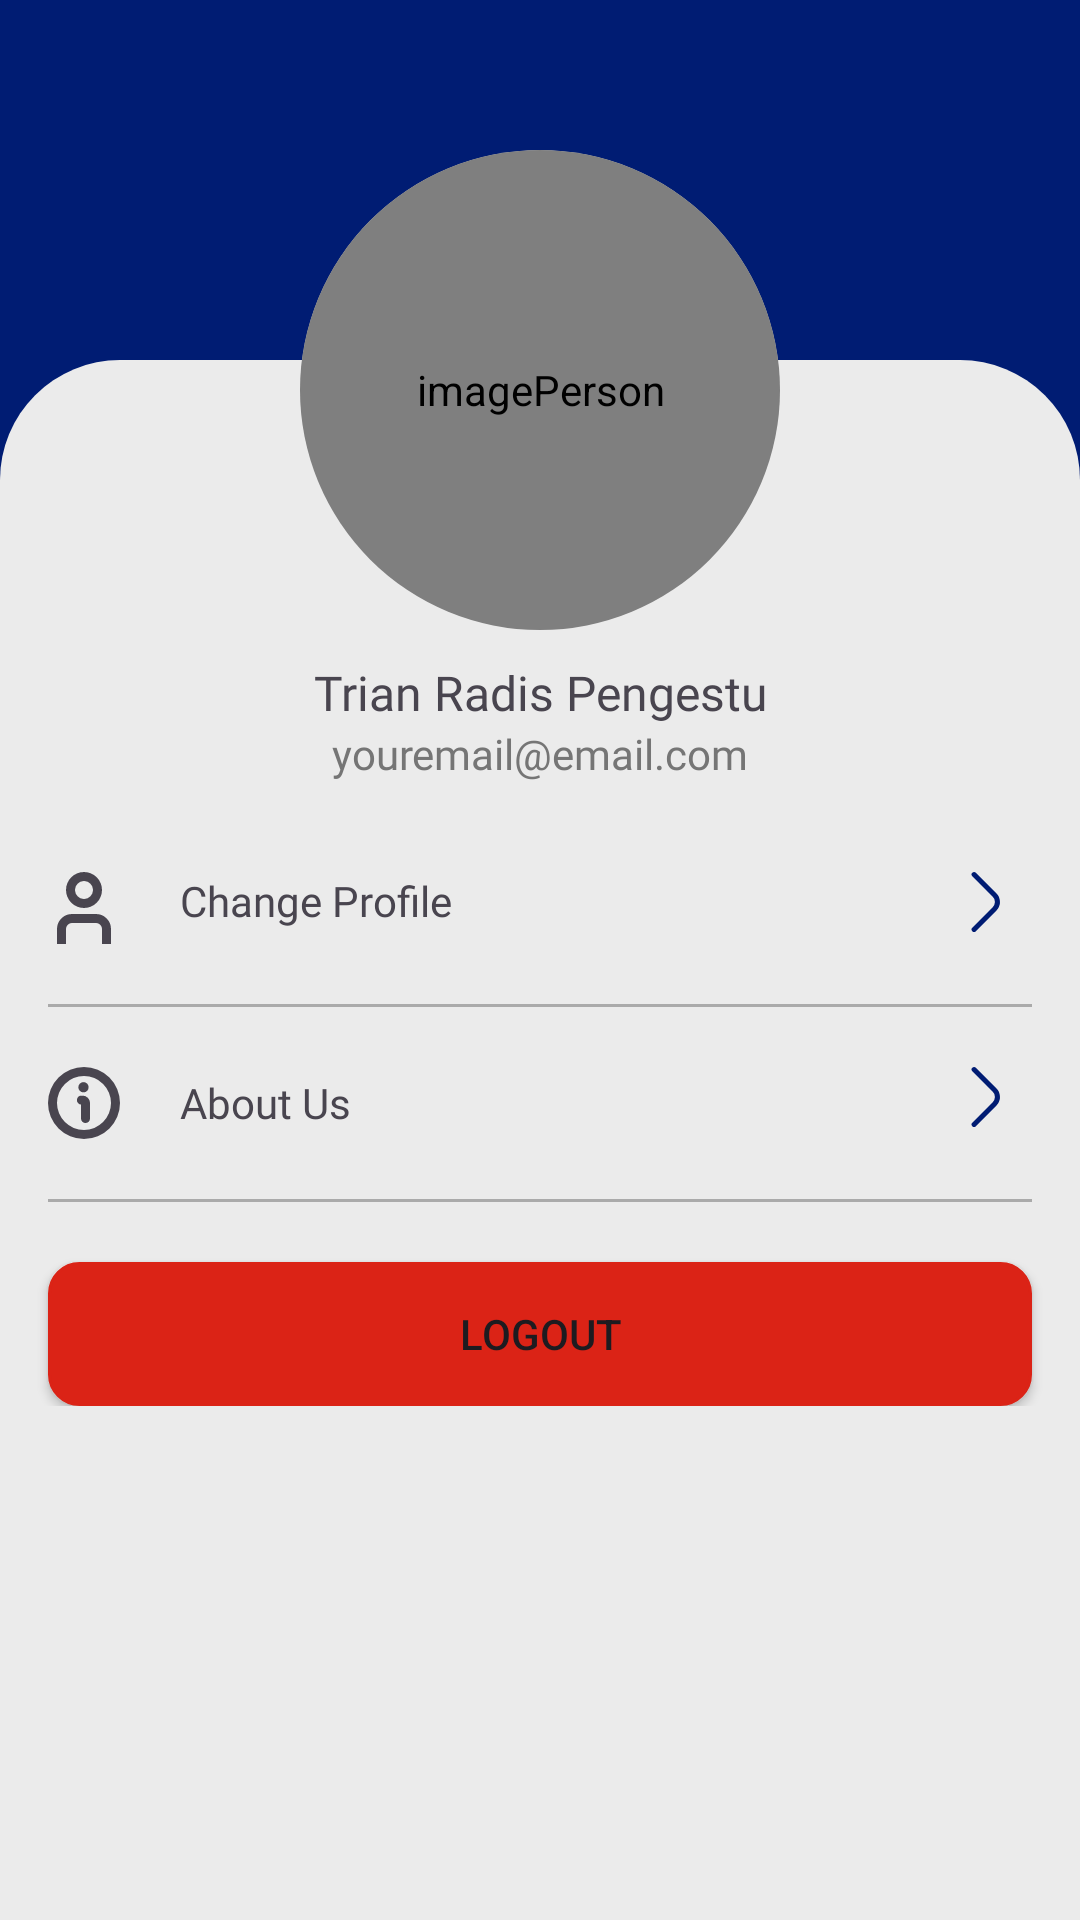

Where icons sit on this 1080px x 1920px app screen, as bbox=[x1, y1, x2, y2]:
info: bbox=[48, 1067, 120, 1139]
user: bbox=[57, 872, 111, 944]
